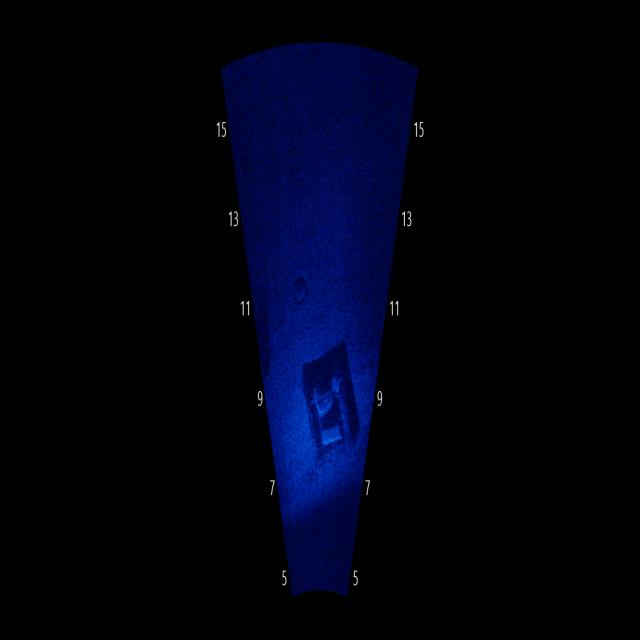square: (296, 347, 365, 474), (249, 270, 283, 387)
